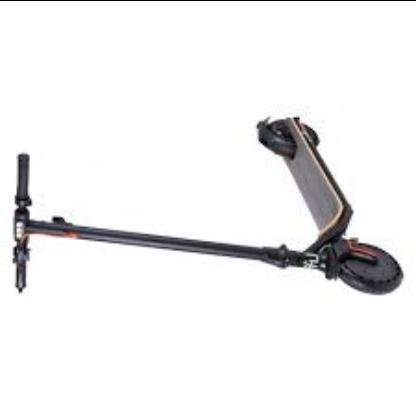bike: (3, 116, 403, 298)
